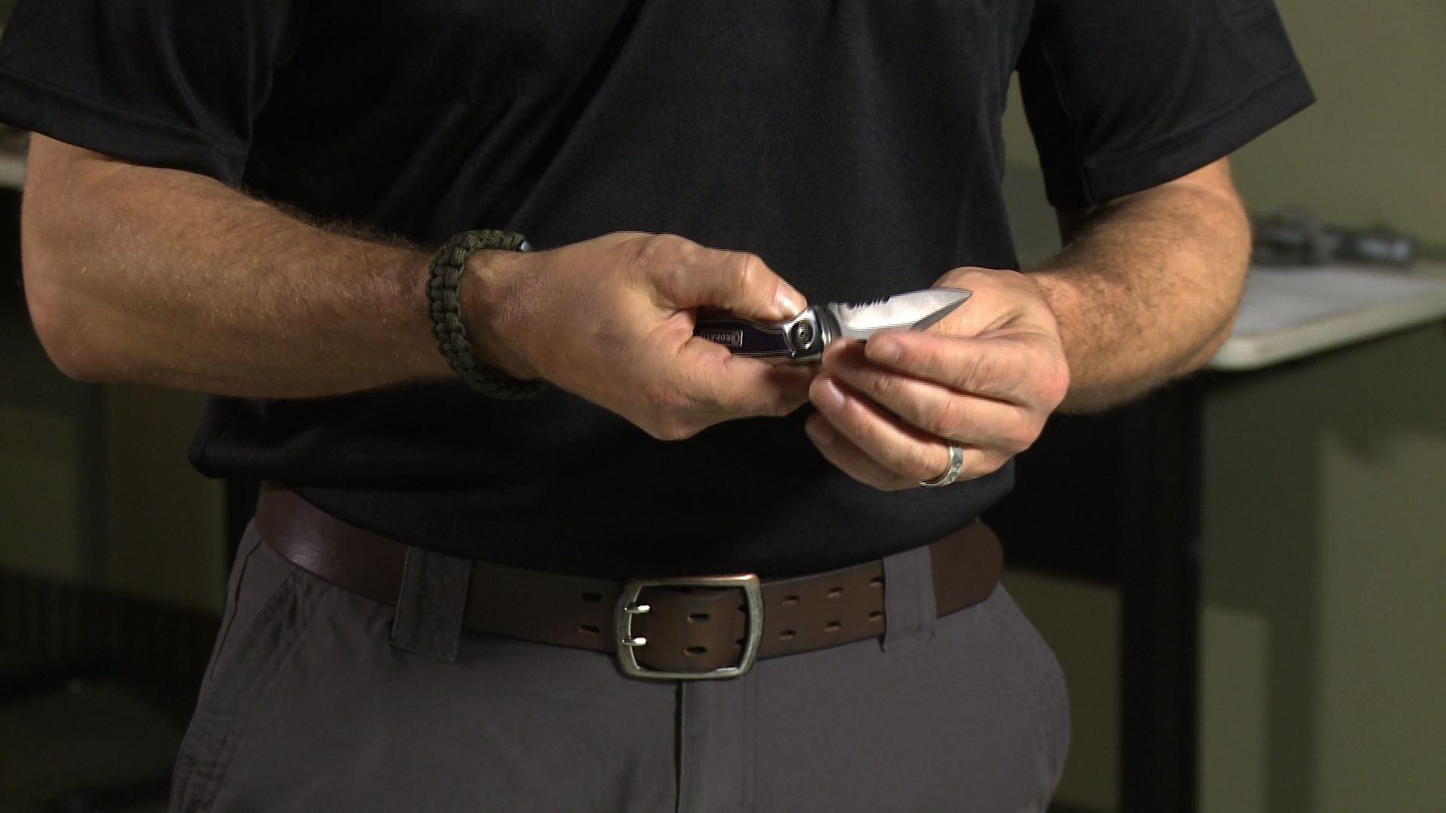Knife: (0, 0, 1317, 813), (543, 232, 819, 448), (740, 289, 970, 372)
